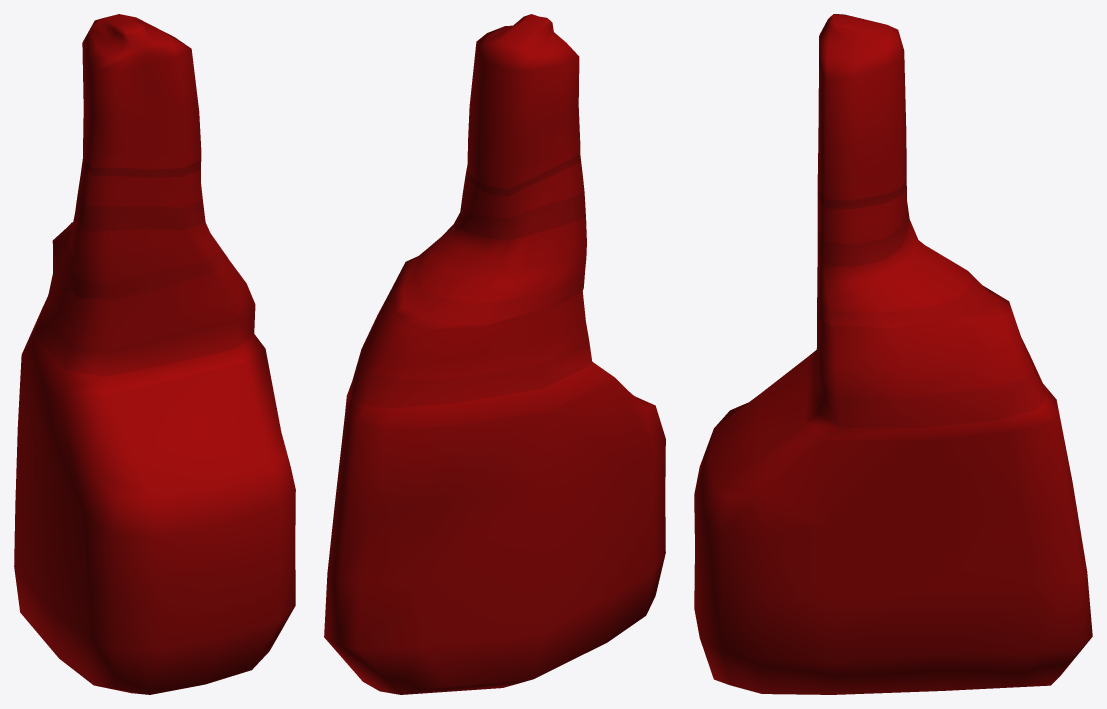
Rendered from geology-landforms-sandstonemesa_v3.fbx.
3 views of the same model, side by side, from view 1: azimuth 30°, elevation 25°; view 2: azimuth 150°, elevation 25°; view 3: azimuth 270°, elevation 25° (orthographic). The views are drawn at different scales.
Parts seen in each view (by area): view 1: SandstoneMesa_v3; view 2: SandstoneMesa_v3; view 3: SandstoneMesa_v3.
Part boxes in pixels (left/top/right/bottom): SandstoneMesa_v3: left=14, top=14, right=295, bottom=694; SandstoneMesa_v3: left=324, top=14, right=665, bottom=694; SandstoneMesa_v3: left=694, top=14, right=1092, bottom=694.
Size of the model in its own units: 19.15 by 54.81 by 30.05.
